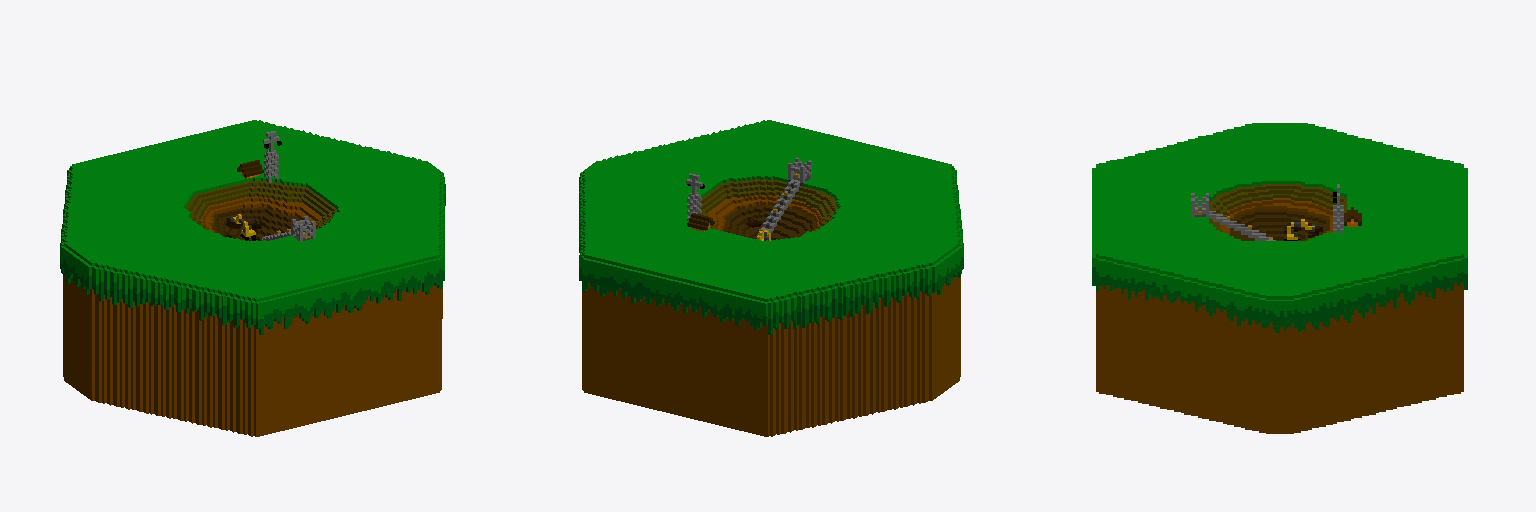
The picture shows the model from 3 angles: view 1: azimuth 30°, elevation 25°; view 2: azimuth 150°, elevation 25°; view 3: azimuth 270°, elevation 25°; orthographic projection.
Visible parts, largest first — view 1: object 1; view 2: object 1; view 3: object 1.
Part boxes in pixels (bbox=[...]): object 1: bbox=[60, 120, 445, 436]; object 1: bbox=[579, 120, 963, 436]; object 1: bbox=[1092, 123, 1467, 433].
Bounding box in the file's own units: 11.8 × 5.7 × 10.6.
Materials: 1 (1 with a texture image).